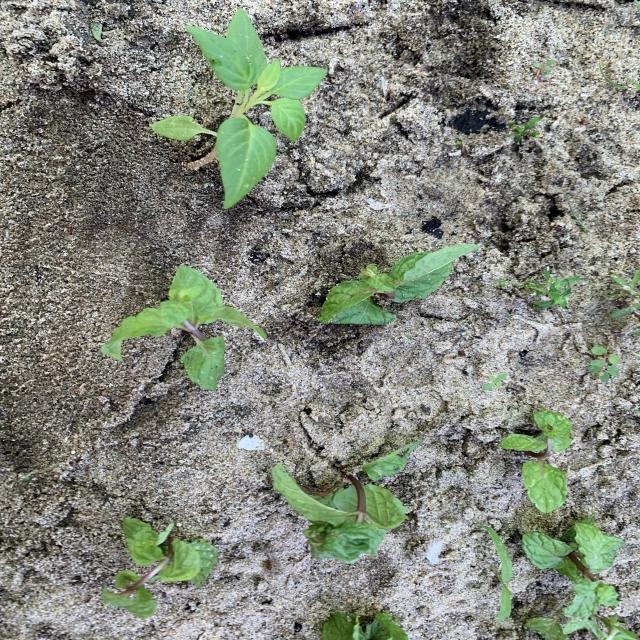crop: (103, 267, 264, 389), (273, 465, 407, 562), (318, 244, 478, 324), (102, 518, 217, 617), (523, 519, 624, 617), (502, 412, 571, 511), (322, 611, 407, 639)
weed: (152, 9, 327, 208), (484, 526, 512, 624), (362, 440, 422, 479), (524, 269, 581, 309), (607, 270, 640, 319), (589, 346, 619, 381), (511, 116, 543, 143), (484, 373, 507, 389), (533, 58, 555, 72), (455, 139, 462, 145), (505, 313, 511, 318)
